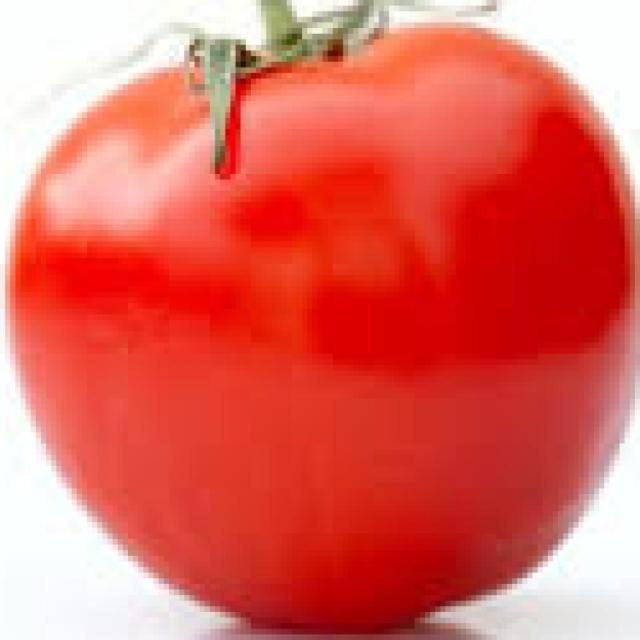Healthy Fruit: (16, 13, 427, 423)
